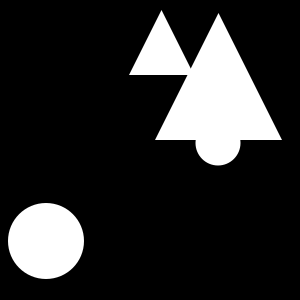rectangle: (8, 203, 84, 279), (196, 120, 240, 166)
triangle: (155, 13, 282, 140), (129, 10, 194, 75)
